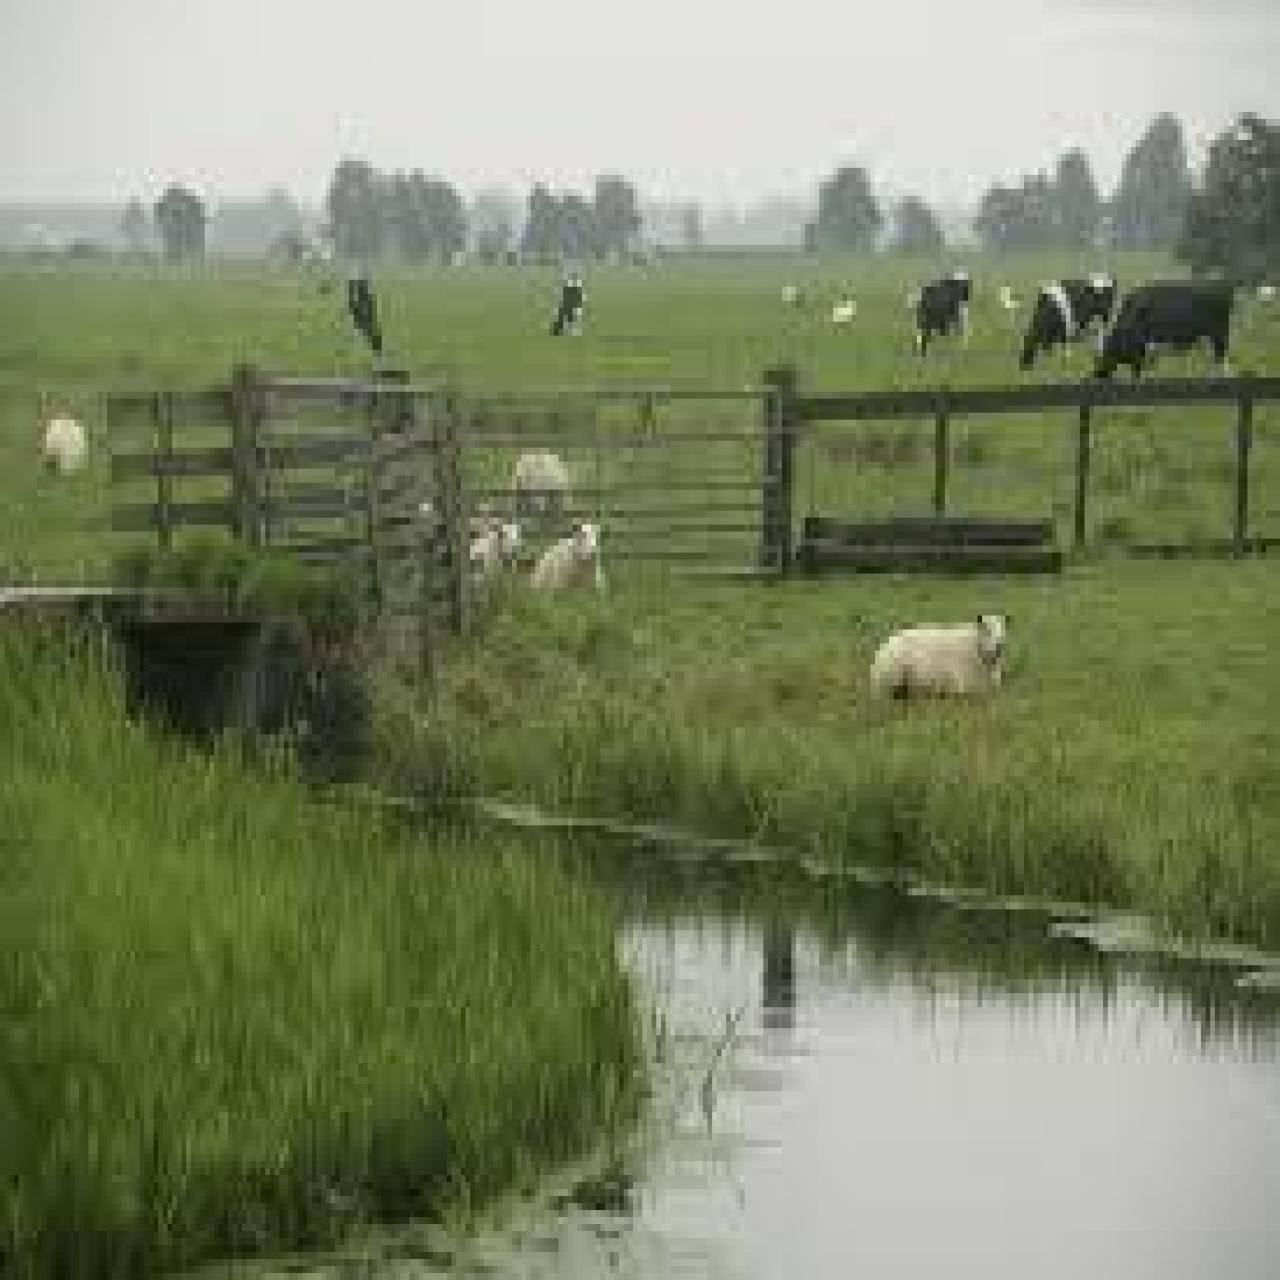cow: (1096, 268, 1245, 381), (871, 612, 1020, 703), (1017, 266, 1124, 372), (524, 517, 612, 594), (333, 256, 393, 361), (910, 277, 975, 347), (465, 520, 526, 591), (508, 448, 581, 504), (543, 277, 593, 347), (42, 420, 88, 476)
